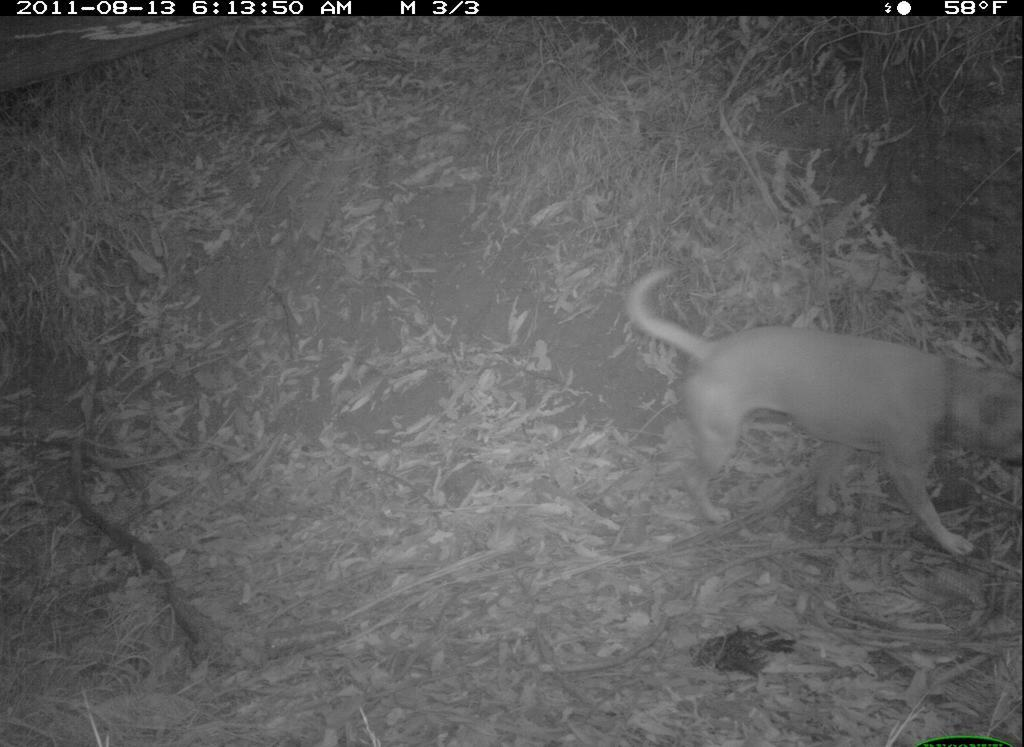dog: (616, 248, 1023, 582)
